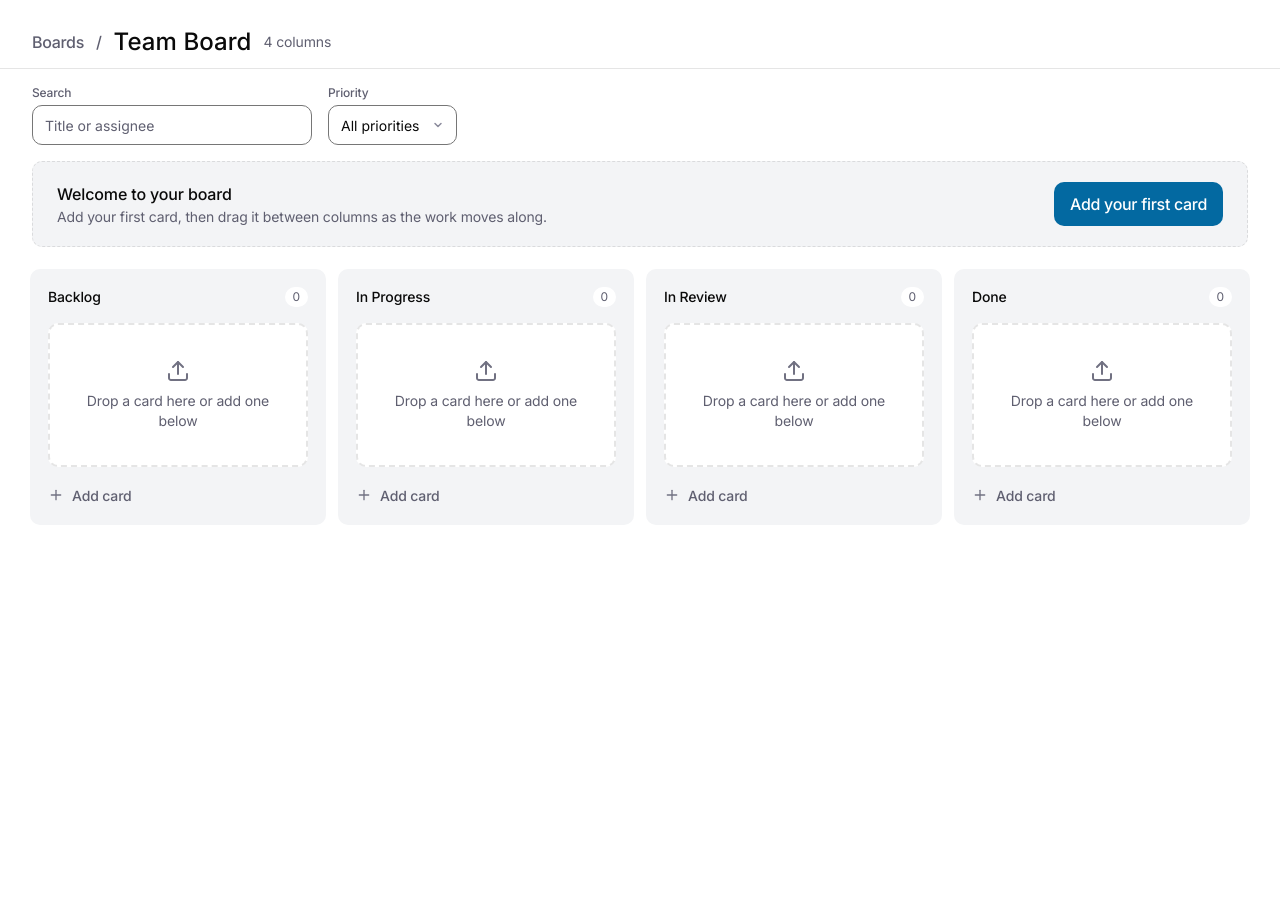
Board › shows the welcome state, then creates a card
Expected: the heading "Welcome to your board" is shown, top-left (57, 184), bottom-right (232, 204)
Click the button "Add card" below "Backlog": x=102, y=495 top-left (48, 483), bottom-right (308, 507)
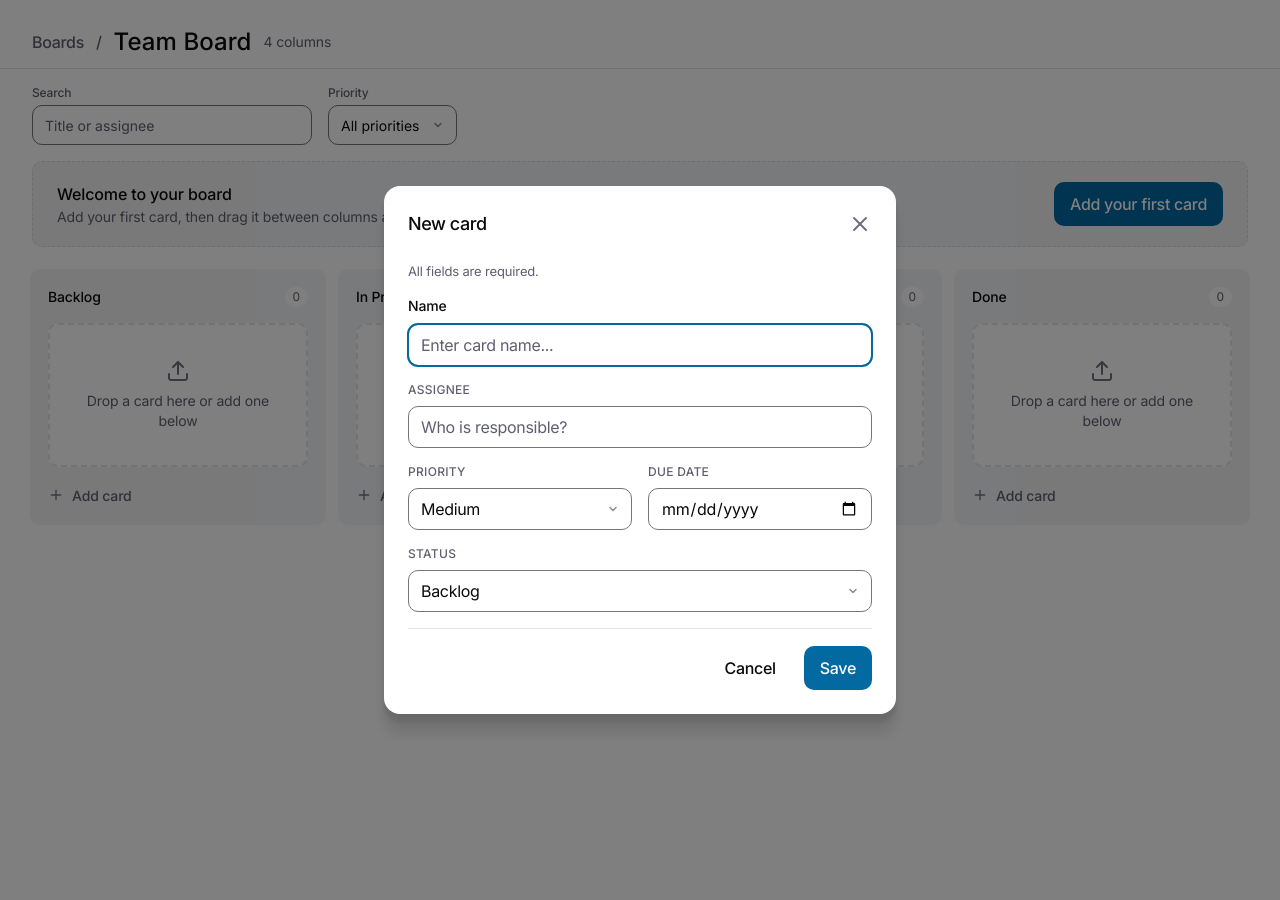
In the field labelled "Name": x=640, y=345 top-left (408, 324), bottom-right (872, 366), type "Write docs"
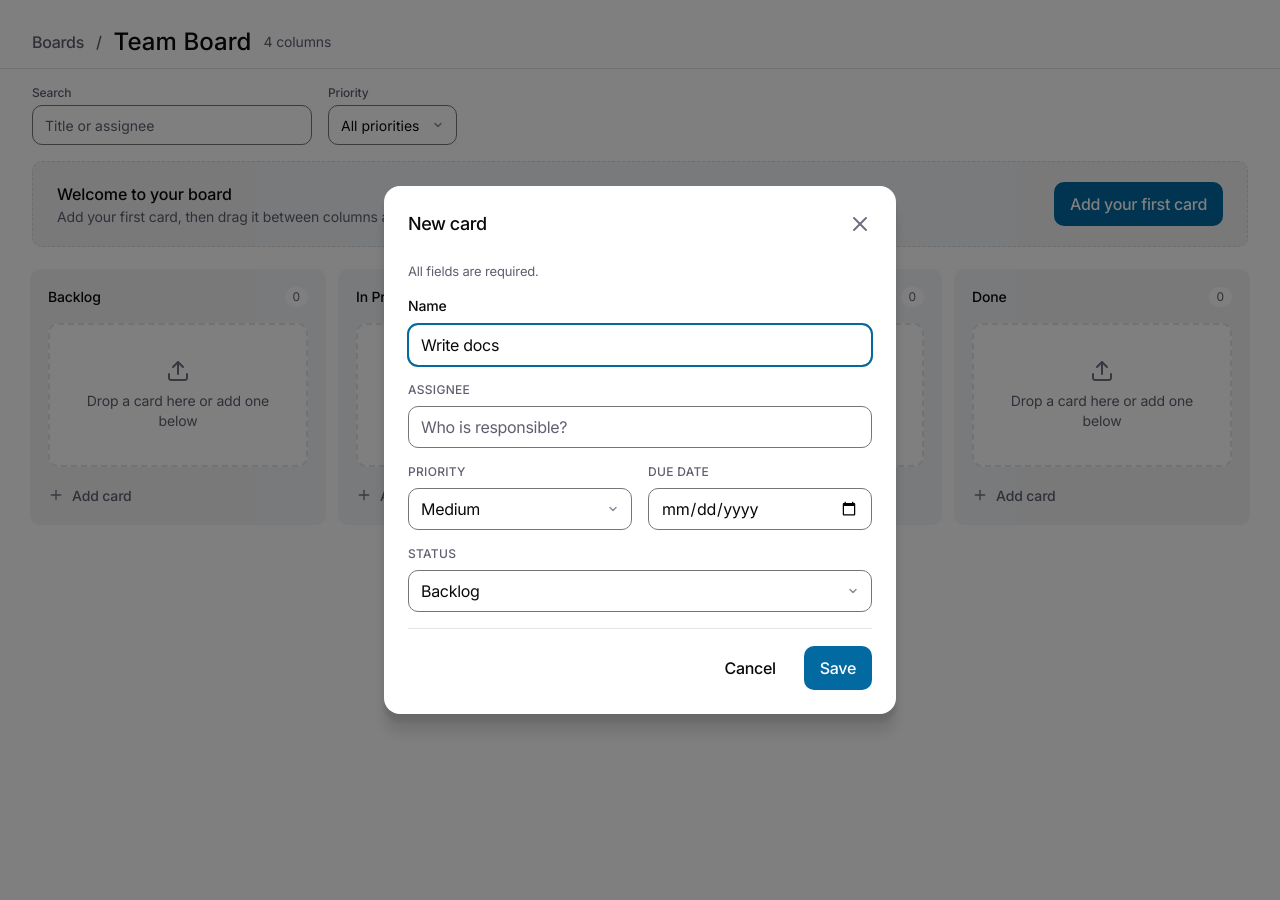
In the field labelled "Assignee": x=640, y=427 top-left (408, 406), bottom-right (872, 448), type "Sam"
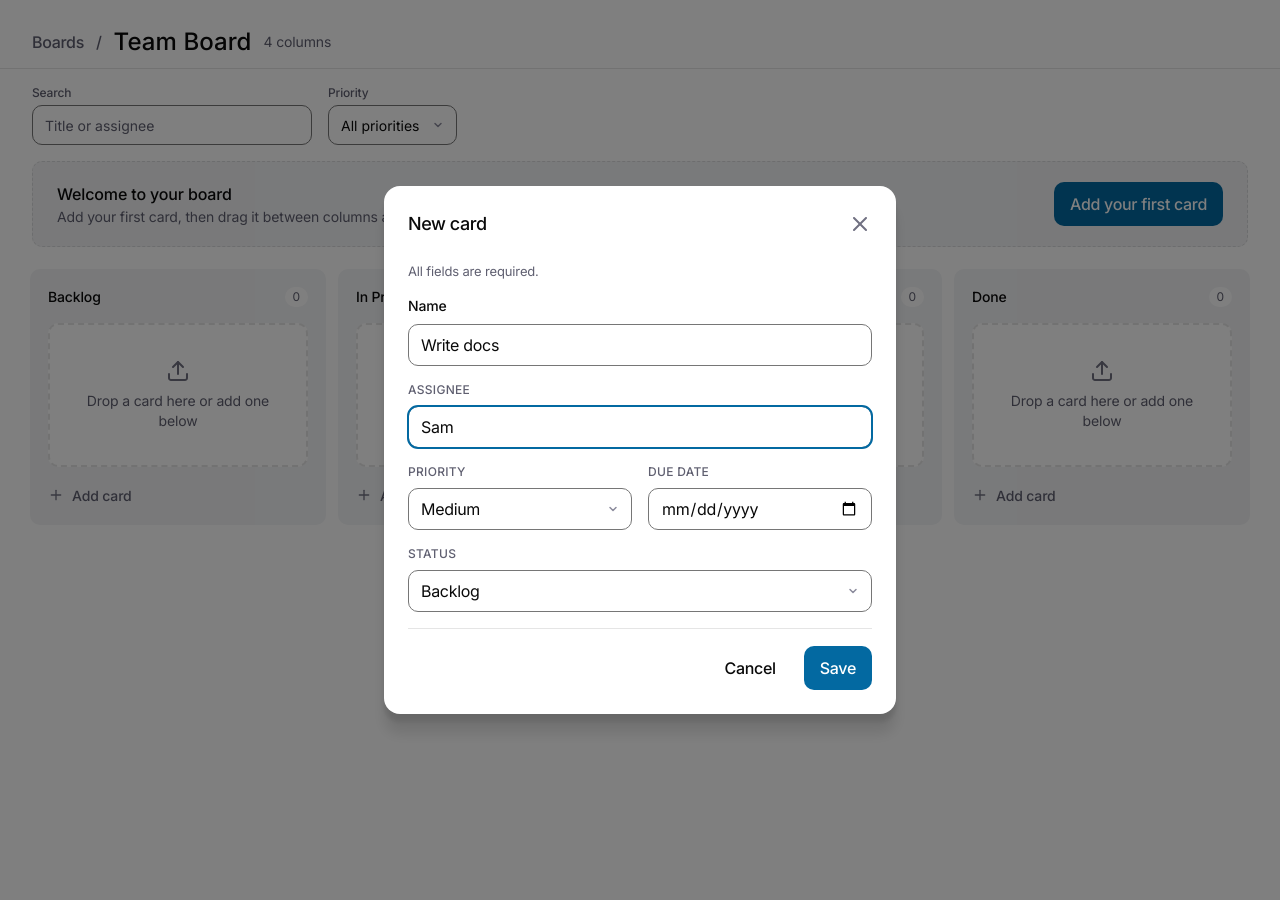
In the date field labelled "Due date": x=760, y=509 top-left (648, 488), bottom-right (872, 530), type "2030-05-01"
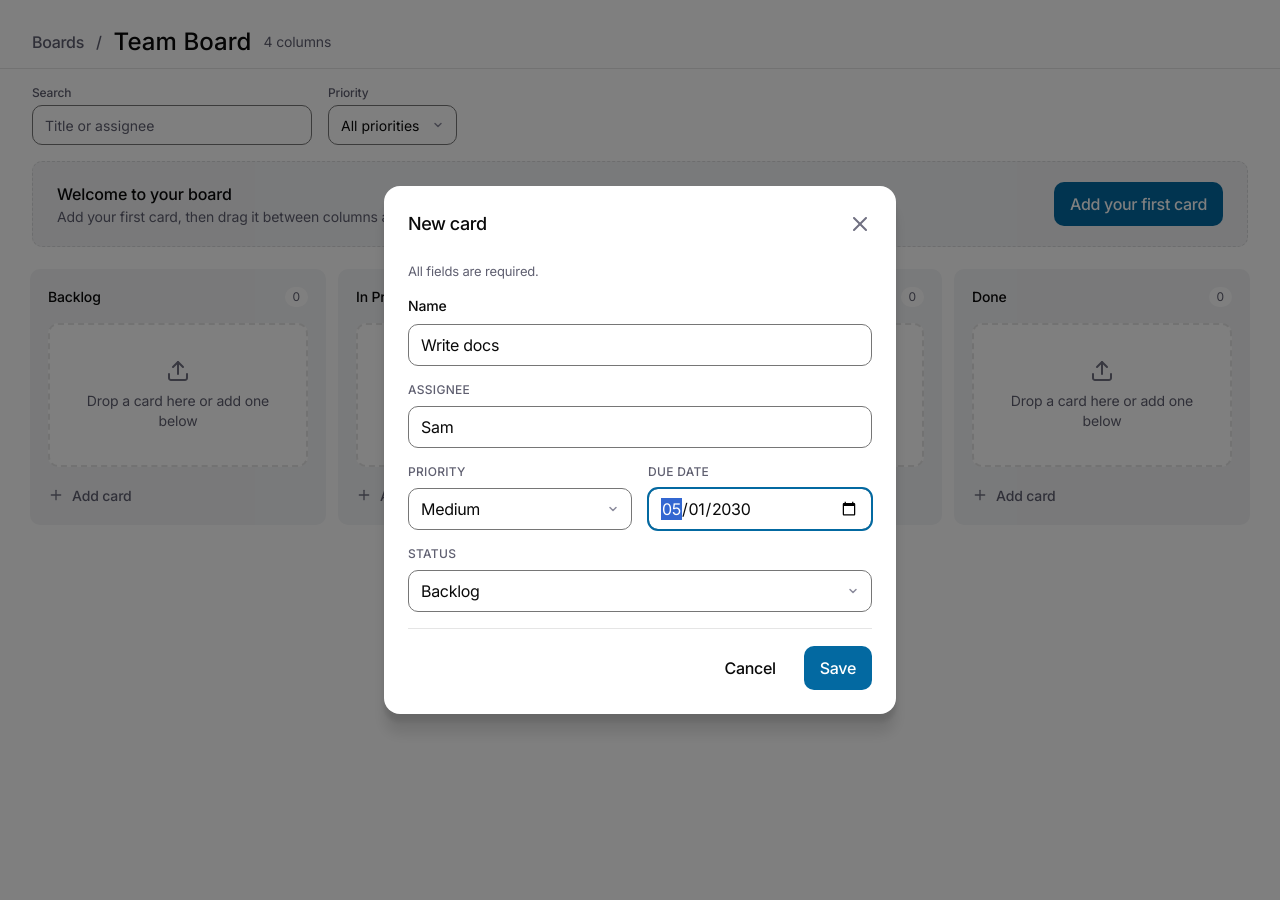
Click the button "Save": x=838, y=668 top-left (804, 646), bottom-right (872, 690)
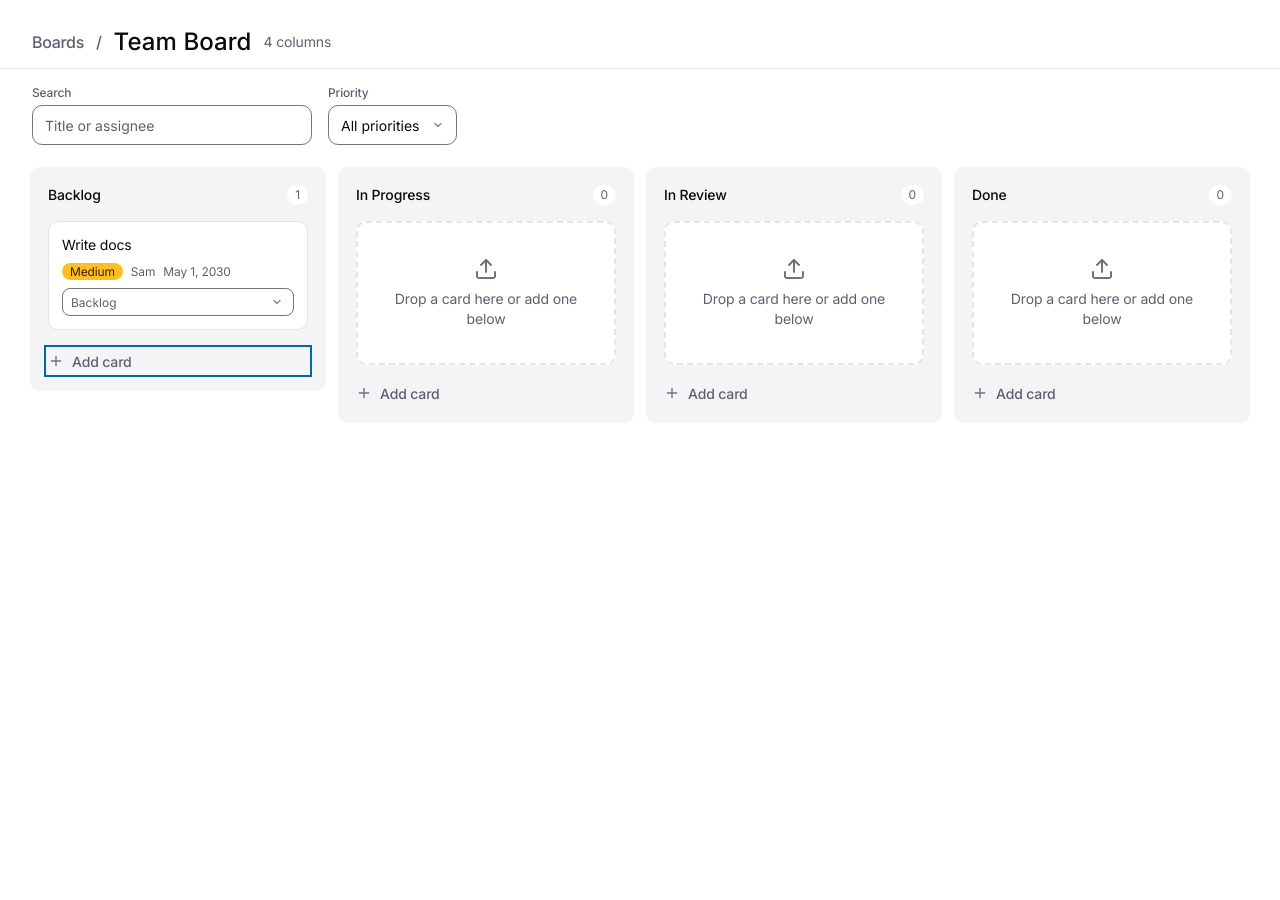
Expected: the heading "Welcome to your board" is gone
Expected: the button "Write docs" is shown, top-left (62, 235), bottom-right (132, 255)
